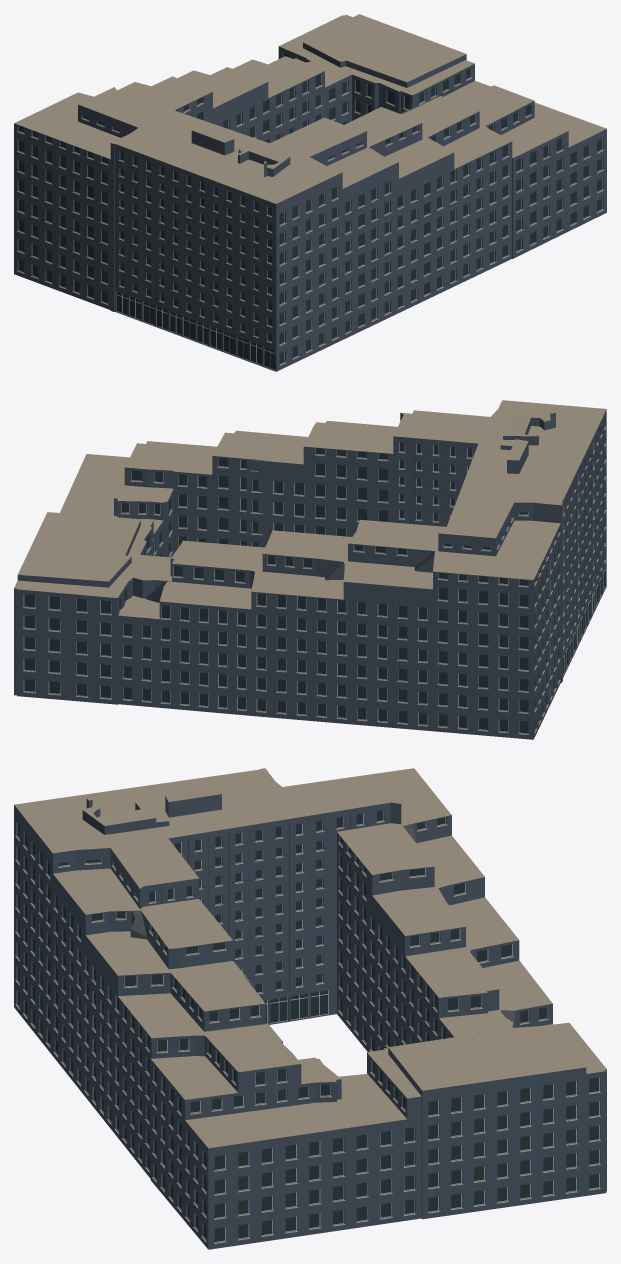
Rendered from recipe-large-houthavens-252532.glb.
3 views of the same model, one above another, from view 1: azimuth 30°, elevation 25°; view 2: azimuth 150°, elevation 25°; view 3: azimuth 270°, elevation 25° (orthographic). The views are drawn at different scales.
Parts seen in each view (by area): view 1: houthavens-252532; view 2: houthavens-252532; view 3: houthavens-252532.
Boxes of the visible parts, x1=… form: houthavens-252532: x1=14, y1=14, x2=606, y2=371; houthavens-252532: x1=14, y1=400, x2=606, y2=739; houthavens-252532: x1=14, y1=768, x2=606, y2=1249.
Bounding box in the file's own units: 94.86 × 32.49 × 79.42.
